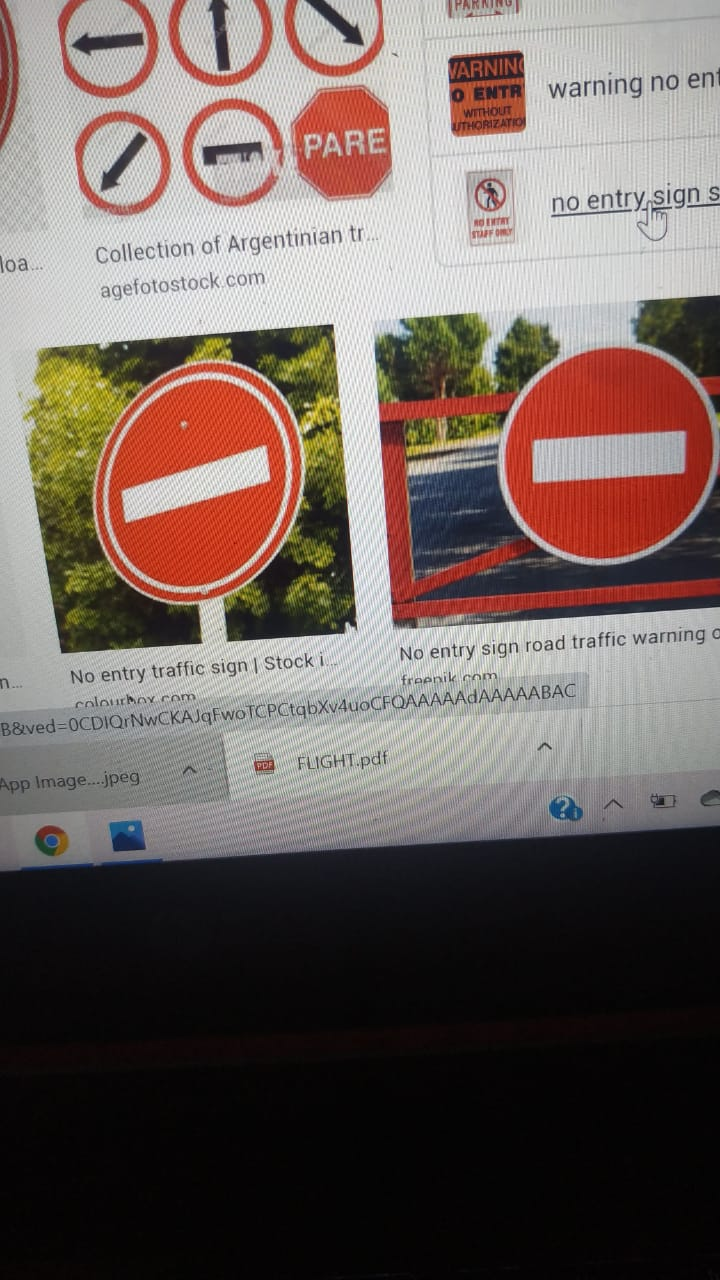NO ENTRY: (77, 334, 321, 610), (463, 333, 720, 570)
